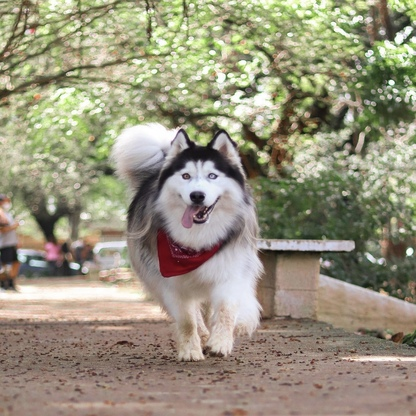husky: (104, 118, 274, 368)
